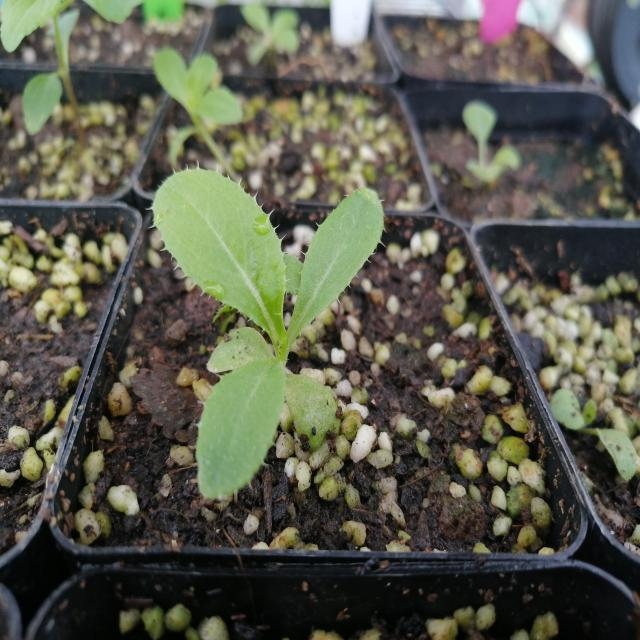field_thistle: (113, 118, 403, 506)
